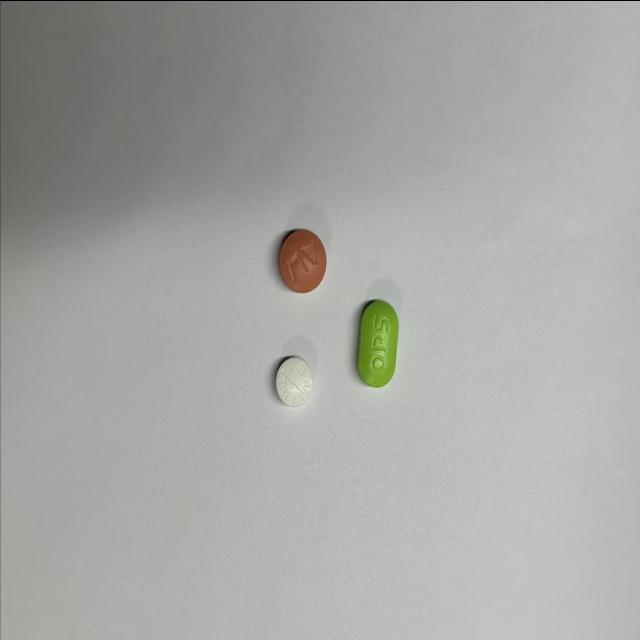Piller: (358, 300, 399, 387), (279, 228, 326, 292), (276, 357, 312, 407)
